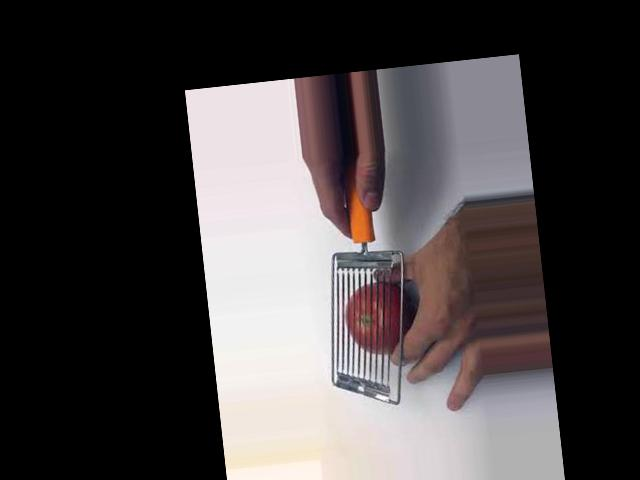tomato: (342, 277, 416, 355)
